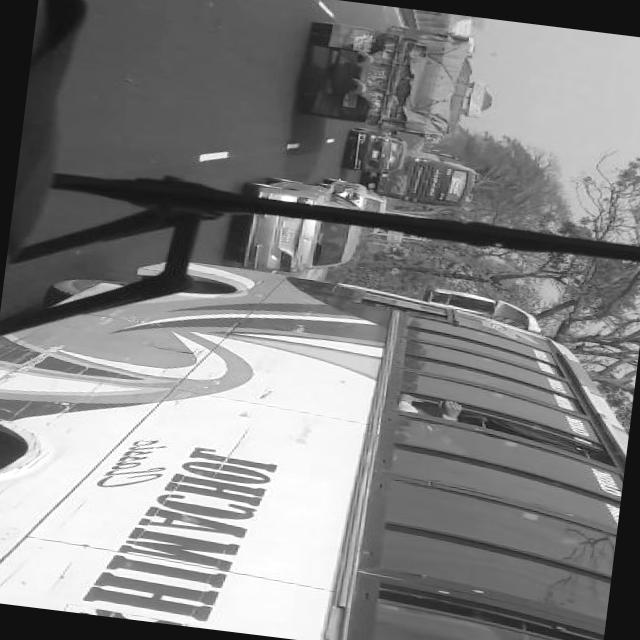bus: (0, 238, 638, 640), (370, 148, 478, 210)
car: (233, 176, 364, 280), (314, 177, 390, 238), (344, 127, 407, 177)
truck: (304, 21, 501, 146)
